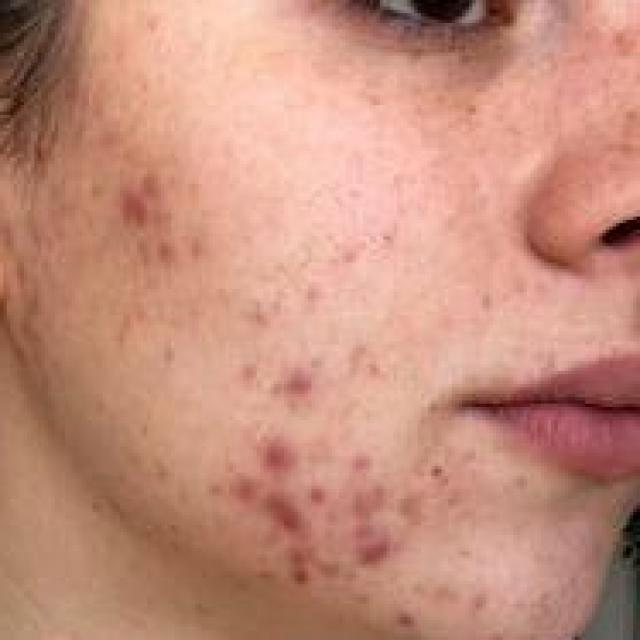Pimples: (110, 164, 168, 233), (338, 450, 391, 512), (352, 518, 393, 572), (280, 542, 328, 584), (260, 492, 308, 532), (278, 361, 318, 404), (260, 433, 298, 476), (346, 236, 374, 266), (236, 472, 257, 499), (253, 302, 274, 328), (397, 607, 418, 624), (312, 282, 325, 309), (482, 292, 497, 315), (192, 233, 205, 259), (432, 460, 448, 480)
